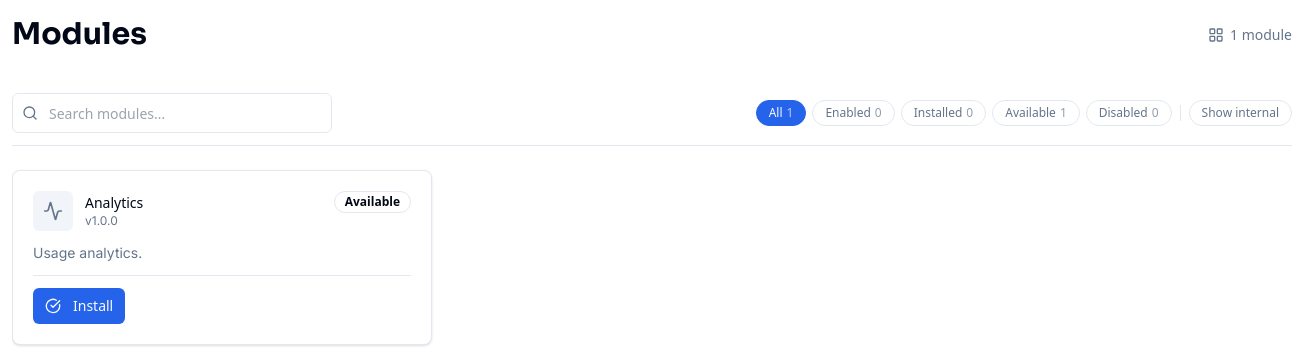
Test: ModulesPage — visibleInCatalog filtering › hides internal modules again when "Show internal" is toggled off
This screenshot has width=1304, height=363.
Expected: the text "Analytics" is shown, [85,193,143,213]
Note:  Turn on
Click the button "Show internal" at coordinates (1240, 113), box [1189,100,1292,126]
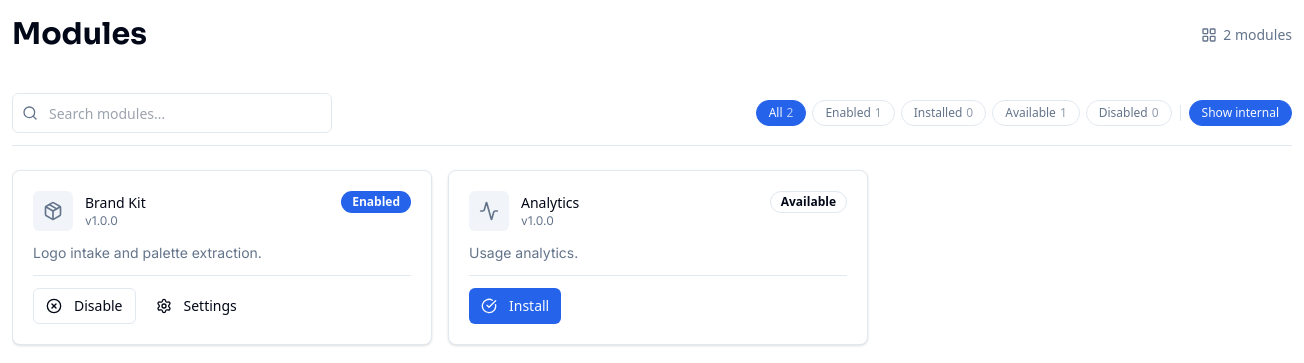
Now the text "Brand Kit" is shown, box [85,193,146,213]
Note: Turn off
Click the button "Show internal" at coordinates (1240, 113), box [1189,100,1292,126]
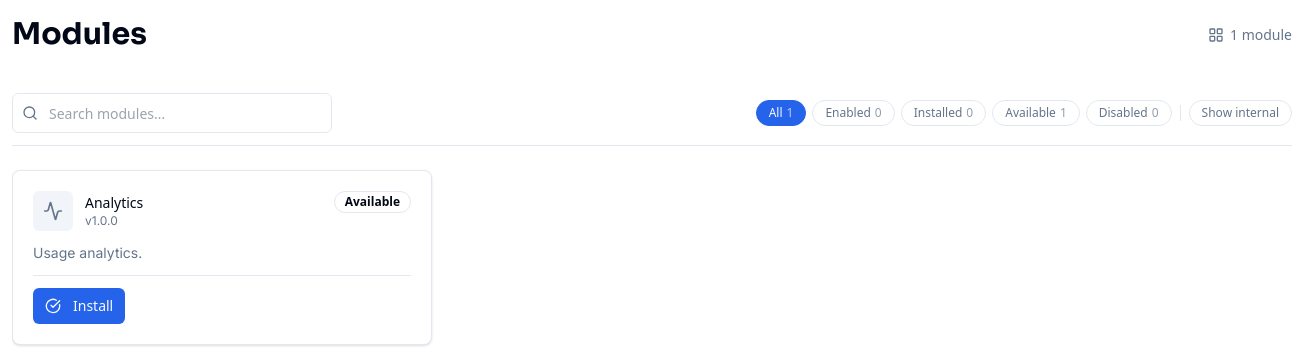
Expected: the text "Analytics" is shown, [85,193,143,213]
Now the text "Brand Kit" is gone
